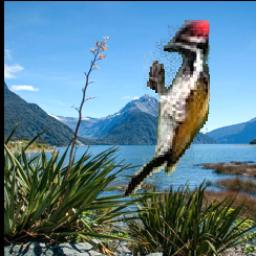Woodpecker: (122, 20, 211, 197)
